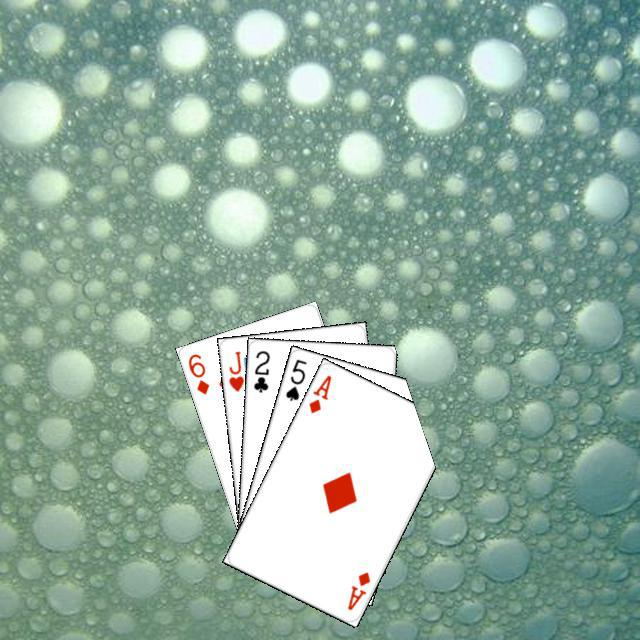2c: (249, 346, 271, 394)
5s: (281, 354, 308, 403)
6d: (183, 349, 211, 396)
Ad: (342, 567, 372, 612), (304, 370, 333, 415)
Jh: (224, 346, 245, 394)
